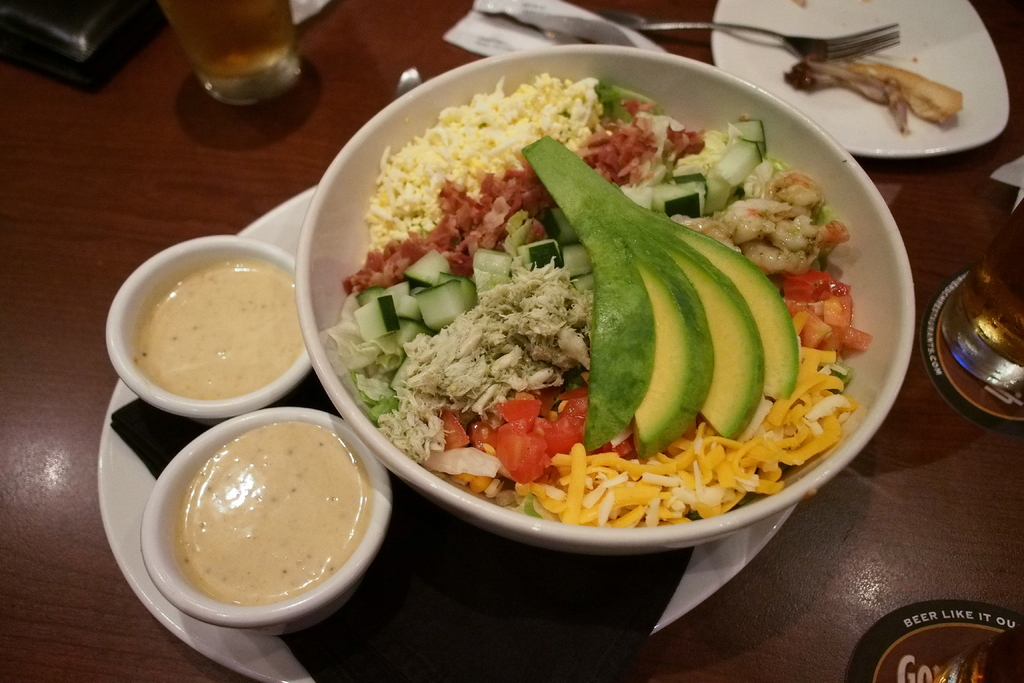salad: (321, 68, 877, 541)
